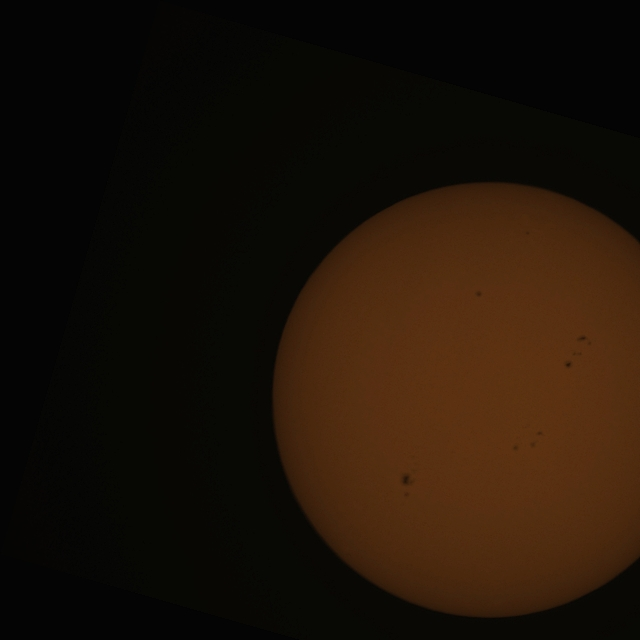sunspot: (570, 335, 592, 362), (564, 347, 584, 369), (400, 471, 416, 498), (574, 335, 592, 350), (530, 431, 544, 449), (474, 289, 483, 298), (564, 360, 572, 369), (512, 444, 519, 452)
